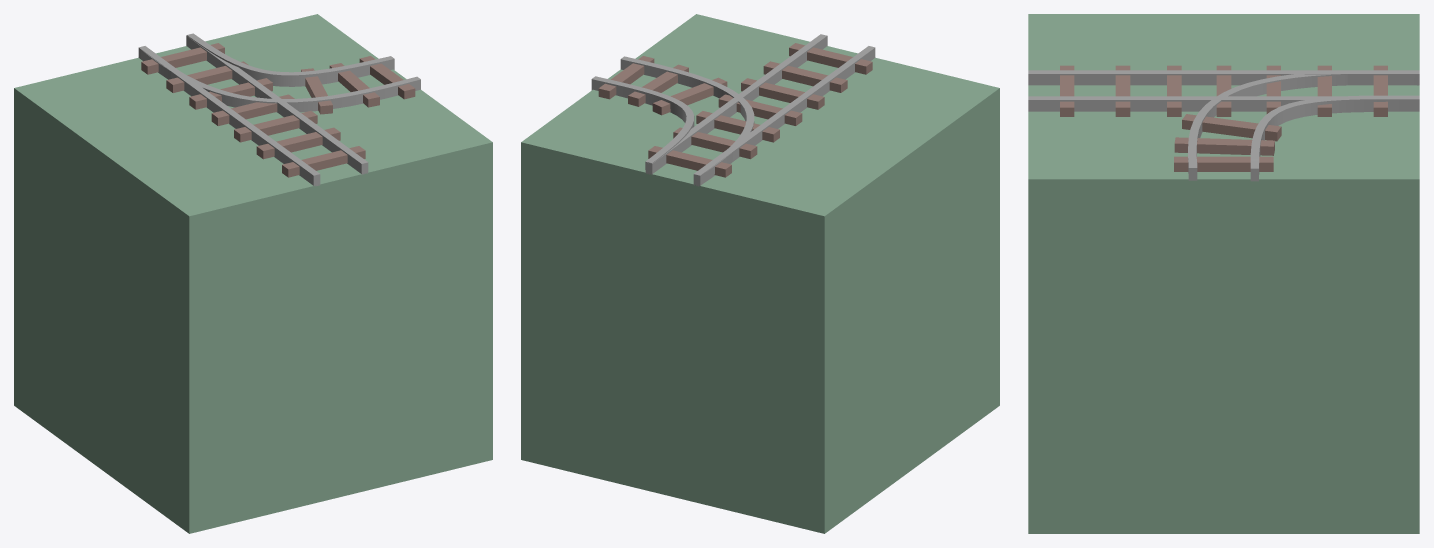
The model's file is Switch_StraightLeft.fbx.
3 renders of one model, left to right at view 1: azimuth 30°, elevation 25°; view 2: azimuth 150°, elevation 25°; view 3: azimuth 270°, elevation 25°, orthographic. The views are drawn at different scales.
Visible parts, largest first — view 1: hout14; view 2: hout14; view 3: hout14.
Boxes of the visible parts, x1,y1,x2,y2 form: hout14: [14, 14, 492, 533]; hout14: [521, 14, 999, 533]; hout14: [1028, 14, 1419, 533].
Bounding box in the file's own units: 1 × 1.04 × 1.
